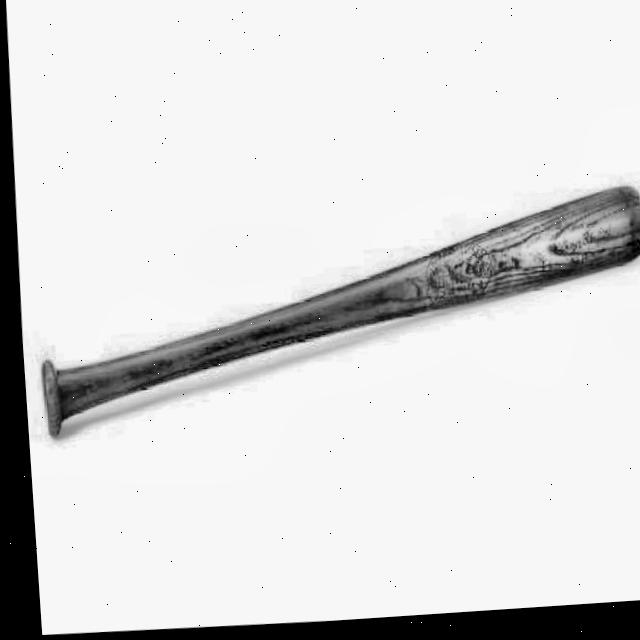tongkat pemukul: (13, 160, 640, 454)
